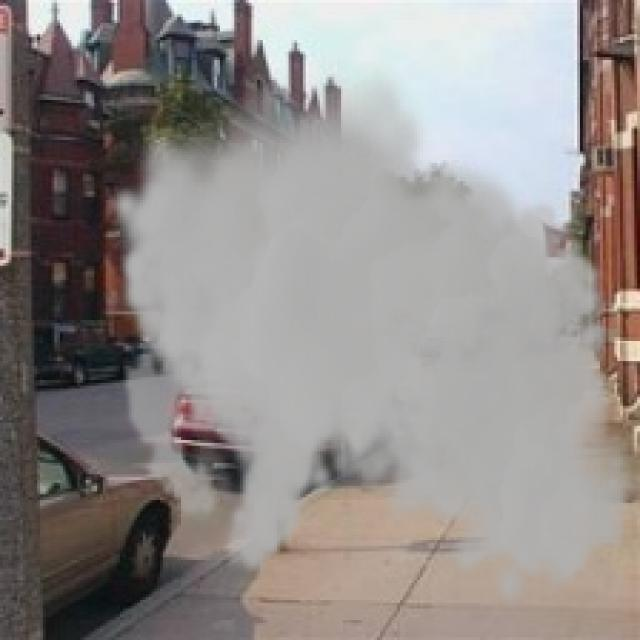smoke: (106, 57, 634, 609)
